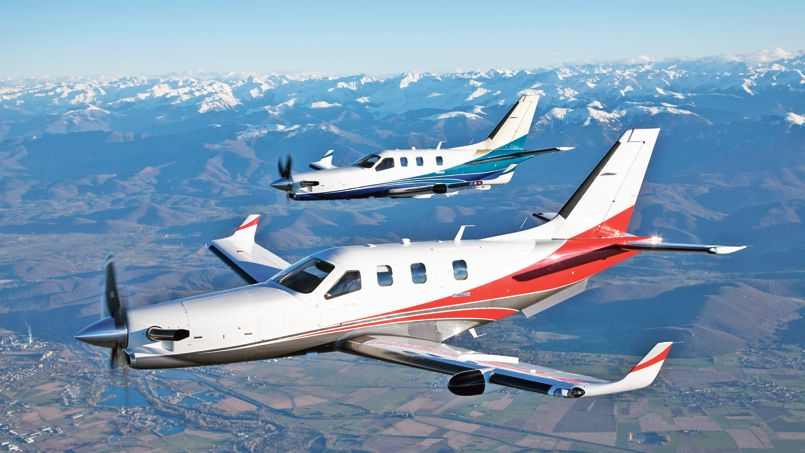Aeronef_commercial: (70, 121, 757, 409), (261, 85, 582, 205)
